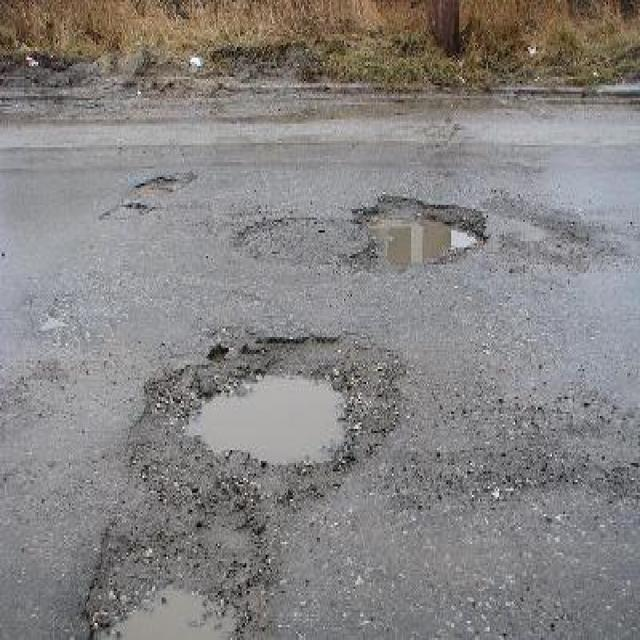Pothole: (119, 325, 409, 515), (80, 521, 288, 639), (351, 191, 494, 277), (134, 170, 198, 198), (103, 199, 158, 223)
